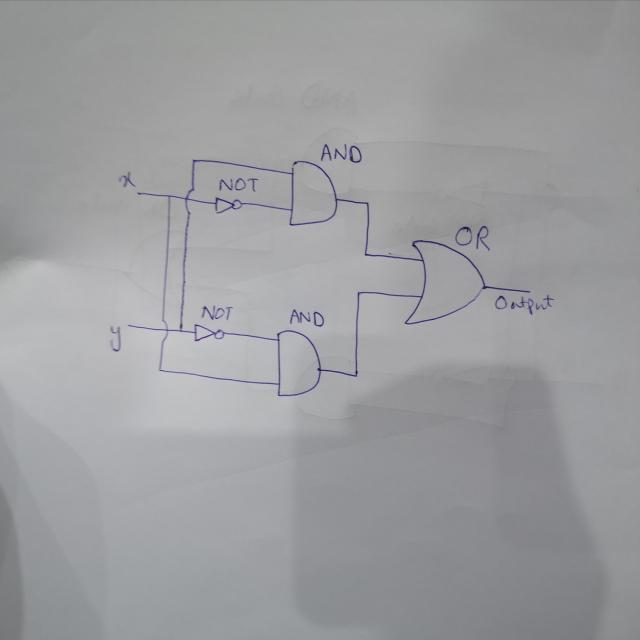crossover: (182, 186, 196, 216), (157, 317, 171, 344)
junction: (360, 248, 372, 260), (350, 368, 360, 381), (362, 196, 372, 208), (155, 364, 164, 374), (354, 288, 363, 297), (190, 155, 198, 165), (176, 326, 184, 334), (164, 192, 172, 200)
terminal: (132, 188, 142, 197), (526, 286, 534, 296), (126, 321, 132, 329)
text: (493, 292, 554, 318), (318, 141, 364, 165), (455, 224, 493, 251), (217, 172, 260, 195), (287, 306, 327, 329), (196, 301, 234, 322), (108, 323, 121, 353), (117, 170, 135, 188)
